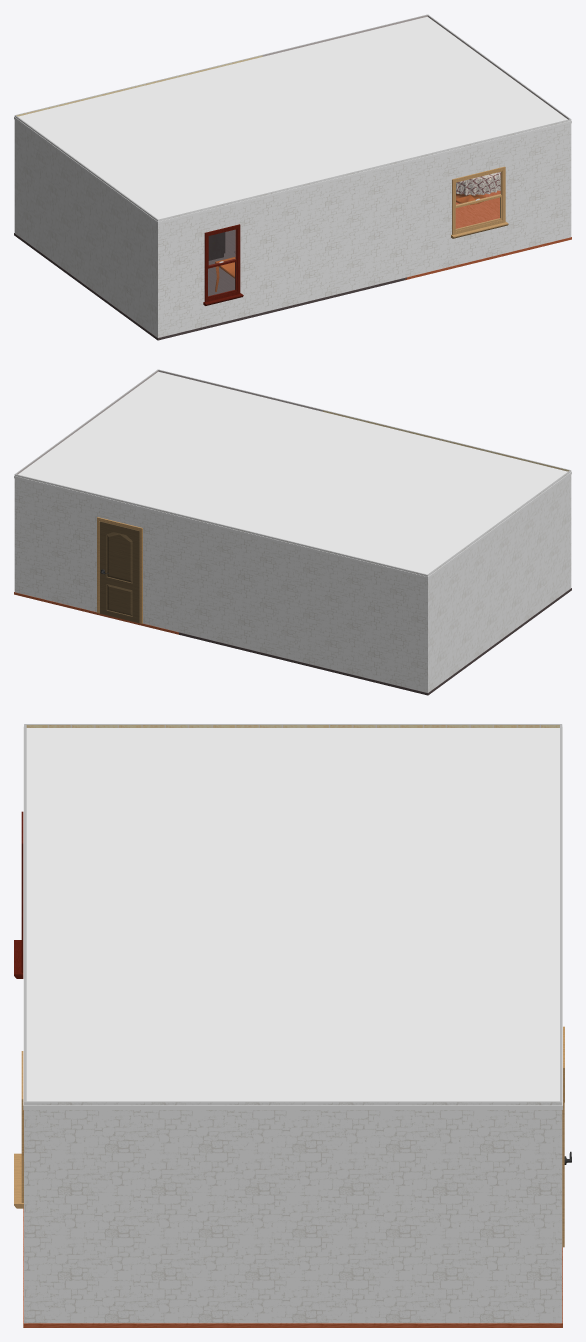
The model's file is ProcTHOR-Train-97.glb.
The picture shows the model from 3 angles, top to bottom: view 1: azimuth 30°, elevation 25°; view 2: azimuth 150°, elevation 25°; view 3: azimuth 270°, elevation 25°; orthographic projection. The views are drawn at different scales.
Visible parts, largest first — view 1: Ceiling#room|2|c, WallInside#wall|exterior|3.81|5.71|9.52|5.71, Ceiling#room|3|c, WallInside#wall|exterior|9.52|0.00|9.52|5.71, WallInside#wall|exterior|0.00|5.71|3.81|5.71, Floor#room|2|f, Floor#room|3|f, Window_Hung_48x44, Window_Hung_32x60, Dining_Table_228_1, WallInside#wall|2|3.81|0.00|9.52|0.00, Countertop_C_10x10 (+1 smaller); view 2: Ceiling#room|2|c, WallInside#wall|exterior|3.81|0.00|9.52|0.00, Ceiling#room|3|c, WallInside#wall|exterior|9.52|0.00|9.52|5.71, WallInside#wall|exterior|0.00|0.00|3.81|0.00, Doorway_6, Floor#room|2|f, WallInside#wall|2|3.81|5.71|9.52|5.71, Floor#room|3|f, WallInside#wall|3|0.00|5.71|3.81|5.71; view 3: Ceiling#room|2|c, WallInside#wall|exterior|0.00|0.00|0.00|5.71, Ceiling#room|3|c, Floor#room|3|f, WallInside#wall|2|9.52|0.00|9.52|5.71, Window_Hung_48x44, Window_Hung_32x60.
Boxes of the visible parts, left/top/right/bottom form: Ceiling#room|2|c: left=14, top=56, right=406, bottom=224; WallInside#wall|exterior|3.81|5.71|9.52|5.71: left=158, top=160, right=406, bottom=337; Ceiling#room|3|c: left=263, top=16, right=571, bottom=163; WallInside#wall|exterior|9.52|0.00|9.52|5.71: left=14, top=115, right=157, bottom=337; WallInside#wall|exterior|0.00|5.71|3.81|5.71: left=405, top=119, right=571, bottom=277; Floor#room|2|f: left=14, top=229, right=406, bottom=340; Floor#room|3|f: left=405, top=190, right=571, bottom=279; Window_Hung_48x44: left=451, top=166, right=508, bottom=238; Window_Hung_32x60: left=203, top=224, right=243, bottom=305; Dining_Table_228_1: left=456, top=172, right=500, bottom=204; WallInside#wall|2|3.81|0.00|9.52|0.00: left=15, top=55, right=262, bottom=116; Countertop_C_10x10: left=208, top=232, right=225, bottom=260; Ceiling#room|2|c: left=179, top=411, right=571, bottom=579; WallInside#wall|exterior|3.81|0.00|9.52|0.00: left=180, top=514, right=427, bottom=692; Ceiling#room|3|c: left=14, top=371, right=323, bottom=518; WallInside#wall|exterior|9.52|0.00|9.52|5.71: left=428, top=470, right=571, bottom=692; WallInside#wall|exterior|0.00|0.00|3.81|0.00: left=14, top=474, right=180, bottom=632; Doorway_6: left=97, top=517, right=142, bottom=623; Floor#room|2|f: left=179, top=588, right=571, bottom=695; WallInside#wall|2|3.81|5.71|9.52|5.71: left=322, top=410, right=569, bottom=471; Floor#room|3|f: left=14, top=592, right=178, bottom=634; WallInside#wall|3|0.00|5.71|3.81|5.71: left=158, top=370, right=323, bottom=411; Ceiling#room|2|c: left=23, top=726, right=562, bottom=954; WallInside#wall|exterior|0.00|0.00|0.00|5.71: left=24, top=1102, right=561, bottom=1323; Ceiling#room|3|c: left=23, top=953, right=562, bottom=1109; Floor#room|3|f: left=23, top=1208, right=562, bottom=1327; WallInside#wall|2|9.52|0.00|9.52|5.71: left=25, top=724, right=561, bottom=727; Window_Hung_48x44: left=14, top=1051, right=23, bottom=1208; Window_Hung_32x60: left=14, top=811, right=23, bottom=978.
Size of what is drawn, in the model's own units: 9.56 by 2.65 by 5.95.
141 materials, 70 textured.
